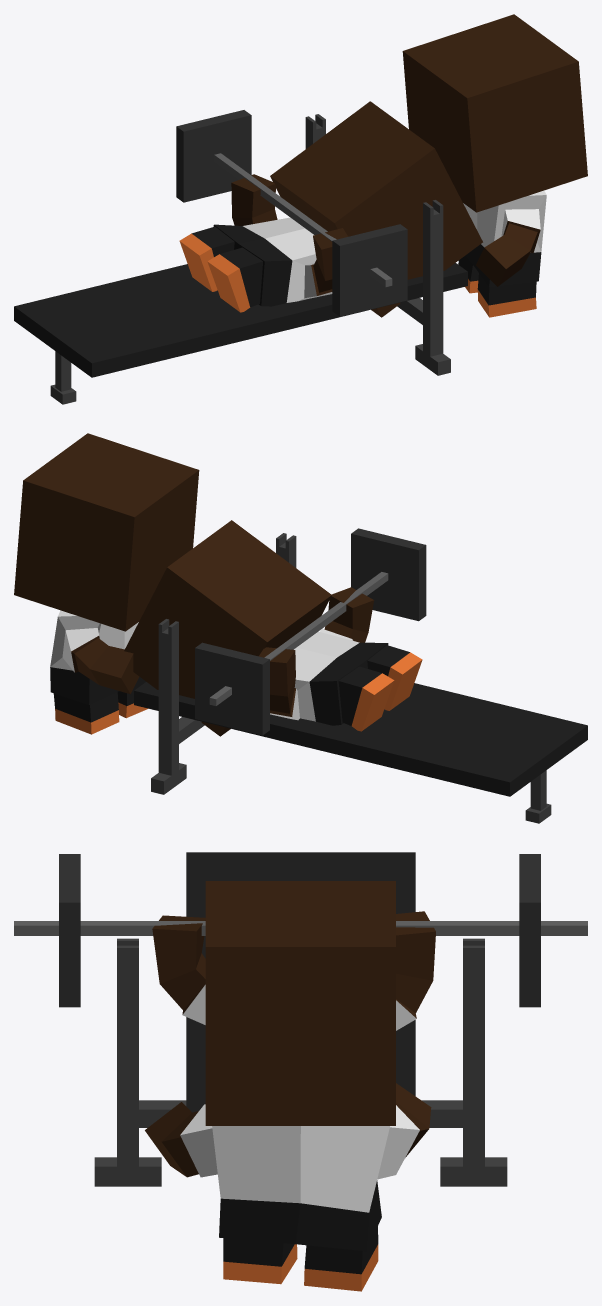
File: Gym Bench.gltf
3 views of the same model, one above another, from view 1: azimuth 30°, elevation 25°; view 2: azimuth 150°, elevation 25°; view 3: azimuth 270°, elevation 25° (orthographic). The views are drawn at different scales.
Visible parts, largest first — view 1: Character 2, Character 1, Bench, Weights, Stand; view 2: Character 2, Character 1, Bench, Weights, Stand; view 3: Character 2, Stand, Bench, Weights, Character 1.
Boxes of the visible parts, bbox=[...] form: Character 2: bbox=[402, 14, 587, 317]; Character 1: bbox=[179, 101, 482, 317]; Bench: bbox=[14, 263, 467, 404]; Weights: bbox=[176, 110, 407, 316]; Stand: bbox=[305, 114, 450, 375]; Character 2: bbox=[14, 433, 199, 734]; Character 1: bbox=[124, 520, 422, 736]; Bench: bbox=[134, 682, 587, 823]; Weights: bbox=[195, 528, 426, 735]; Stand: bbox=[151, 533, 296, 794]; Character 2: bbox=[145, 881, 431, 1291]; Stand: bbox=[94, 938, 507, 1186]; Bench: bbox=[186, 852, 415, 1112]; Weights: bbox=[14, 854, 587, 1007]; Character 1: bbox=[152, 911, 435, 1030].
Size of the model in its own units: 3.83 by 1.79 by 2.57.
